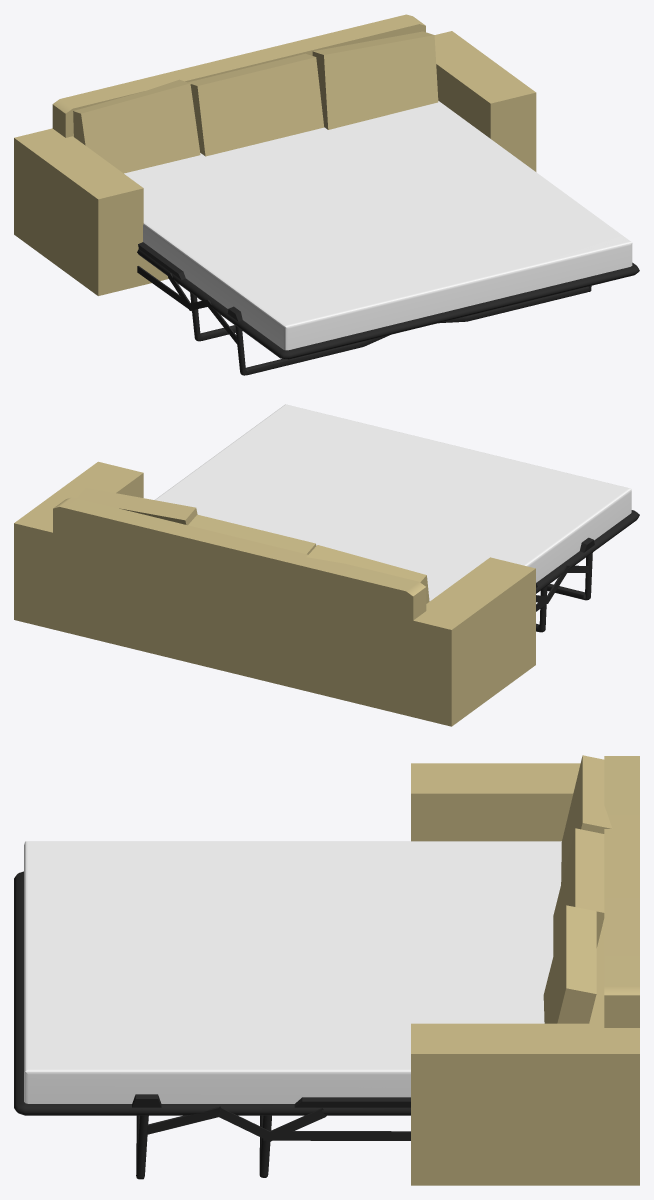
File: foldout_matress_couch.fbx
The picture shows the model from 3 angles, top to bottom: view 1: azimuth 30°, elevation 25°; view 2: azimuth 150°, elevation 25°; view 3: azimuth 270°, elevation 25°; orthographic projection. The views are drawn at different scales.
Visible parts, largest first — view 1: matress_obj, couchFoundation1, couchCushion11, couchCushion10, couch_bed_framing, couchCushion12; view 2: couchFoundation1, matress_obj, couch_bed_framing, couchCushion10, couchCushion11, couchCushion12; view 3: matress_obj, couchFoundation1, couch_bed_framing, couchCushion10, couchCushion11, couchCushion12.
Part boxes in pixels (<box>): matress_obj: <box>124,101,632,350</box>; couchFoundation1: <box>14,14,536,295</box>; couchCushion11: <box>188,53,324,156</box>; couchCushion10: <box>312,31,438,129</box>; couch_bed_framing: <box>137,242,639,375</box>; couchCushion12: <box>73,79,200,173</box>; couchFoundation1: <box>14,461,535,726</box>; matress_obj: <box>155,404,631,601</box>; couch_bed_framing: <box>536,510,639,632</box>; couchCushion10: <box>77,488,197,525</box>; couchCushion11: <box>188,514,316,554</box>; couchCushion12: <box>306,545,429,603</box>; matress_obj: <box>24,841,561,1103</box>; couchFoundation1: <box>411,756,639,1185</box>; couch_bed_framing: <box>14,871,410,1179</box>; couchCushion10: <box>543,905,596,1023</box>; couchCushion11: <box>553,828,604,955</box>; couchCushion12: <box>561,755,612,884</box>.
Bounding box in the file's own units: 7.53 × 2.45 × 6.85.
